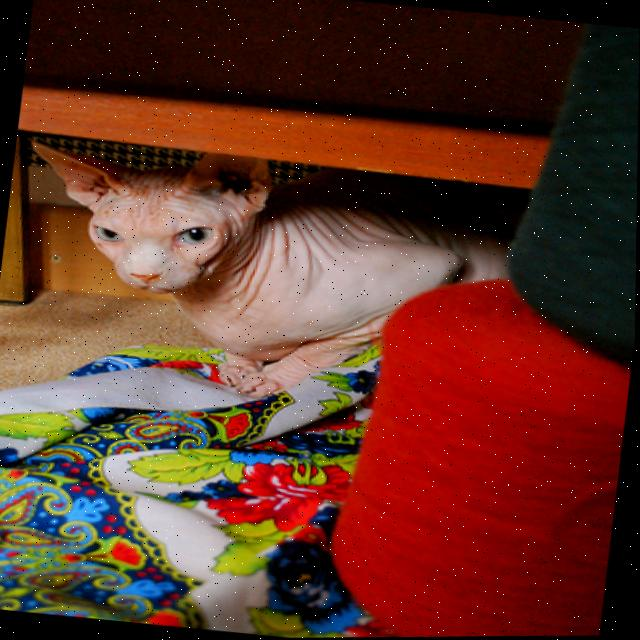Sphynx: (0, 126, 545, 427)
